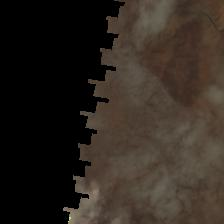landslides: (21, 28, 39, 36), (17, 34, 35, 41), (0, 0, 6, 17)
